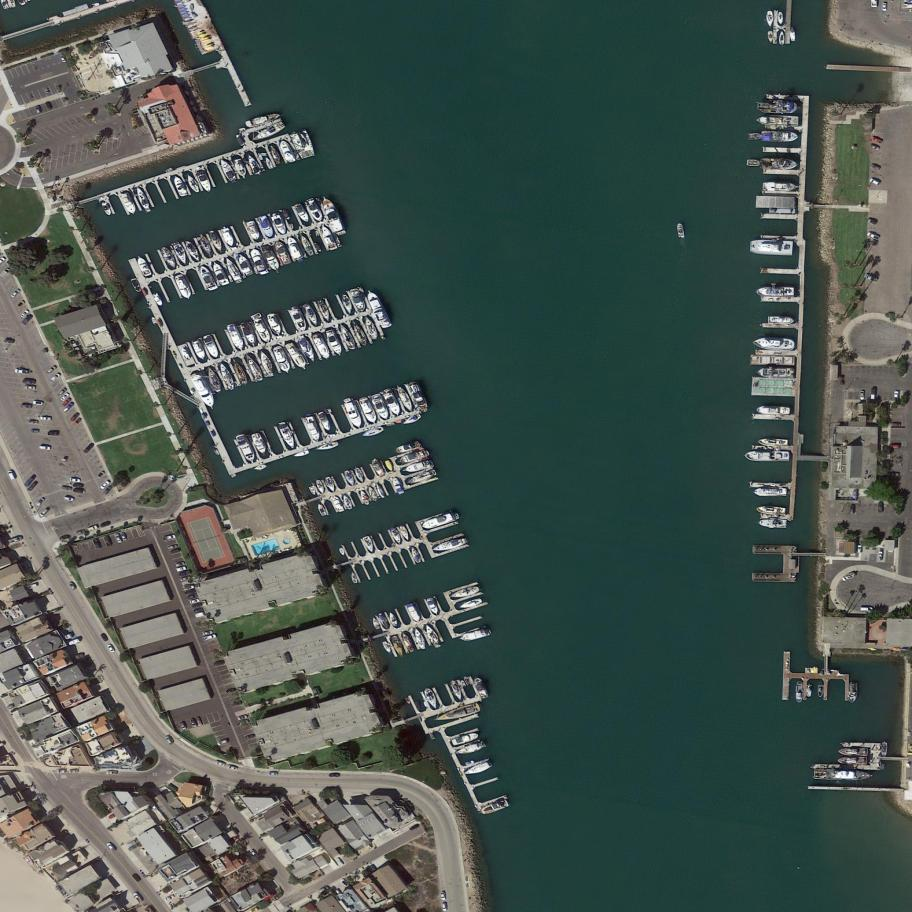ship: (364, 287, 394, 331), (319, 193, 348, 238), (189, 369, 219, 412), (433, 701, 482, 727), (289, 127, 318, 162), (407, 379, 432, 415), (285, 339, 310, 374), (813, 768, 874, 782), (235, 431, 259, 466), (342, 396, 365, 431), (251, 121, 287, 143), (749, 239, 793, 256), (432, 535, 469, 555), (420, 512, 457, 532), (271, 344, 294, 376), (324, 327, 347, 359), (261, 243, 284, 275), (311, 330, 333, 363), (296, 334, 319, 365), (204, 364, 226, 396), (382, 387, 404, 419), (370, 391, 392, 423), (244, 111, 282, 129), (225, 322, 247, 353), (216, 361, 237, 392), (244, 352, 265, 383), (359, 396, 380, 426), (395, 384, 416, 414), (249, 247, 270, 277), (752, 337, 796, 351), (318, 223, 339, 252), (289, 304, 310, 333), (304, 413, 324, 443), (278, 422, 298, 452), (174, 273, 194, 303), (338, 322, 358, 352), (744, 449, 790, 462), (479, 799, 510, 818), (201, 333, 222, 361), (253, 317, 274, 345), (265, 310, 286, 338), (258, 349, 278, 378), (198, 263, 218, 292), (454, 740, 486, 758), (405, 469, 438, 486), (459, 627, 492, 644), (240, 321, 260, 349), (756, 114, 799, 127), (463, 760, 494, 778), (211, 259, 230, 288), (348, 287, 368, 314), (119, 189, 138, 217), (351, 320, 370, 348), (273, 239, 292, 267), (398, 449, 431, 465), (231, 357, 249, 386), (159, 245, 179, 271), (761, 100, 798, 114), (231, 154, 250, 181), (362, 315, 381, 342), (285, 235, 304, 262), (224, 255, 242, 283), (450, 585, 481, 601), (422, 686, 441, 712), (196, 169, 215, 195), (306, 198, 325, 224), (270, 211, 289, 237), (403, 459, 432, 476), (451, 731, 480, 748), (134, 184, 152, 211), (762, 130, 799, 143), (250, 431, 269, 456), (304, 303, 322, 329), (237, 252, 255, 278), (258, 214, 276, 240), (759, 158, 798, 170), (423, 622, 441, 647), (219, 157, 237, 182), (171, 174, 189, 199), (340, 292, 358, 317), (172, 242, 190, 266), (208, 230, 226, 254), (756, 287, 795, 298), (411, 626, 428, 651), (389, 634, 406, 659), (279, 139, 296, 164), (135, 253, 152, 278), (185, 239, 202, 264), (244, 219, 262, 242), (191, 338, 208, 362), (473, 676, 490, 700), (246, 153, 263, 176), (317, 299, 333, 323), (299, 234, 315, 258), (757, 368, 795, 378), (762, 182, 800, 192), (394, 441, 421, 455), (458, 596, 483, 611), (295, 203, 311, 226), (221, 226, 237, 249), (407, 602, 423, 624), (198, 235, 214, 257), (753, 487, 788, 497), (318, 410, 333, 433), (756, 405, 790, 415), (450, 680, 465, 702), (186, 173, 201, 195), (362, 425, 385, 439), (757, 437, 789, 447), (426, 596, 441, 617), (362, 534, 377, 555), (317, 440, 341, 453), (401, 632, 415, 654), (391, 476, 406, 496), (377, 611, 392, 631), (389, 526, 404, 546), (839, 747, 869, 757), (402, 413, 423, 427), (269, 144, 282, 166), (323, 475, 338, 494), (372, 459, 387, 478), (331, 494, 345, 514), (409, 545, 423, 565), (837, 756, 868, 765), (756, 506, 786, 515), (358, 488, 372, 507), (343, 469, 357, 488), (130, 277, 144, 295), (759, 519, 787, 528), (341, 493, 354, 511), (366, 485, 379, 503), (353, 466, 366, 484), (399, 524, 412, 542), (374, 483, 387, 500), (179, 346, 192, 363), (768, 316, 795, 324), (381, 640, 394, 656), (234, 133, 247, 149), (795, 681, 804, 704), (101, 201, 113, 218), (849, 682, 858, 704), (315, 479, 327, 495), (152, 292, 164, 308), (388, 611, 399, 628), (370, 616, 382, 631), (675, 222, 685, 240), (293, 449, 310, 459), (384, 459, 396, 473), (317, 502, 328, 517), (264, 156, 275, 171), (280, 208, 291, 222), (766, 10, 774, 27), (253, 463, 268, 472), (251, 312, 263, 323), (748, 132, 762, 141), (308, 485, 318, 497), (312, 241, 322, 253), (745, 159, 760, 167), (881, 742, 888, 757), (350, 571, 358, 584), (817, 685, 825, 698), (806, 684, 813, 697), (777, 12, 784, 25), (164, 166, 174, 175), (790, 27, 796, 42), (779, 31, 785, 45), (150, 316, 159, 325), (339, 547, 347, 557), (767, 31, 773, 43), (257, 153, 264, 162), (237, 127, 246, 132), (289, 223, 294, 229), (261, 152, 268, 156)
small-vehicle: (841, 570, 858, 584), (866, 230, 881, 243), (62, 401, 76, 414), (863, 273, 879, 284), (7, 535, 23, 545), (21, 314, 33, 327), (99, 480, 111, 492), (82, 443, 94, 455), (34, 496, 46, 508), (202, 633, 218, 642), (318, 884, 331, 895), (39, 506, 50, 518), (27, 481, 39, 492), (10, 287, 21, 299), (49, 372, 60, 384), (869, 176, 881, 187), (132, 891, 143, 903), (6, 469, 16, 482), (179, 574, 193, 583), (870, 135, 884, 144), (19, 308, 30, 319), (69, 412, 80, 423), (61, 397, 72, 408), (57, 386, 68, 397), (46, 364, 57, 375), (131, 872, 142, 883), (114, 532, 124, 544), (106, 643, 116, 655), (870, 162, 882, 172), (163, 735, 173, 747), (194, 716, 204, 728), (58, 533, 71, 542), (182, 583, 195, 592), (226, 763, 239, 772), (214, 759, 227, 768), (216, 738, 229, 747), (189, 601, 203, 609), (168, 547, 182, 555), (187, 597, 201, 605), (340, 877, 350, 888), (103, 485, 113, 496), (24, 477, 34, 488), (60, 393, 71, 403), (249, 848, 259, 859), (106, 841, 116, 852), (100, 520, 112, 529), (93, 538, 102, 550), (178, 569, 190, 578), (870, 143, 882, 152), (189, 717, 198, 729), (14, 368, 29, 375), (163, 534, 176, 542), (212, 659, 225, 667), (119, 531, 128, 542), (409, 823, 420, 832), (100, 632, 109, 643), (45, 100, 54, 111), (72, 487, 84, 495), (185, 588, 197, 596), (174, 561, 186, 569), (203, 629, 215, 637), (186, 593, 199, 600), (39, 415, 52, 422), (97, 470, 106, 480), (16, 299, 25, 309), (193, 606, 204, 614), (104, 536, 112, 547), (84, 665, 95, 673), (38, 445, 52, 451), (166, 544, 178, 551), (68, 477, 80, 484), (226, 687, 238, 694), (27, 419, 41, 425), (19, 404, 33, 410), (105, 770, 119, 776), (244, 733, 256, 740), (236, 714, 248, 721), (893, 390, 900, 402), (77, 528, 87, 536), (68, 581, 76, 591), (21, 380, 37, 385), (34, 105, 42, 115), (179, 722, 187, 732), (32, 400, 45, 406), (23, 385, 36, 391), (887, 472, 900, 478), (87, 525, 98, 532), (176, 565, 187, 572), (439, 890, 446, 901), (62, 496, 74, 502), (878, 501, 884, 513), (60, 54, 67, 64), (441, 902, 448, 912), (61, 485, 72, 491), (850, 503, 856, 514), (47, 431, 60, 436), (3, 339, 16, 344), (72, 483, 84, 488), (882, 2, 888, 12), (859, 390, 865, 400), (889, 444, 901, 449), (859, 607, 873, 611), (267, 771, 278, 776), (68, 768, 79, 773), (328, 773, 341, 777), (30, 429, 40, 434), (56, 769, 66, 774), (878, 551, 883, 561), (890, 423, 902, 427), (857, 545, 863, 553)
